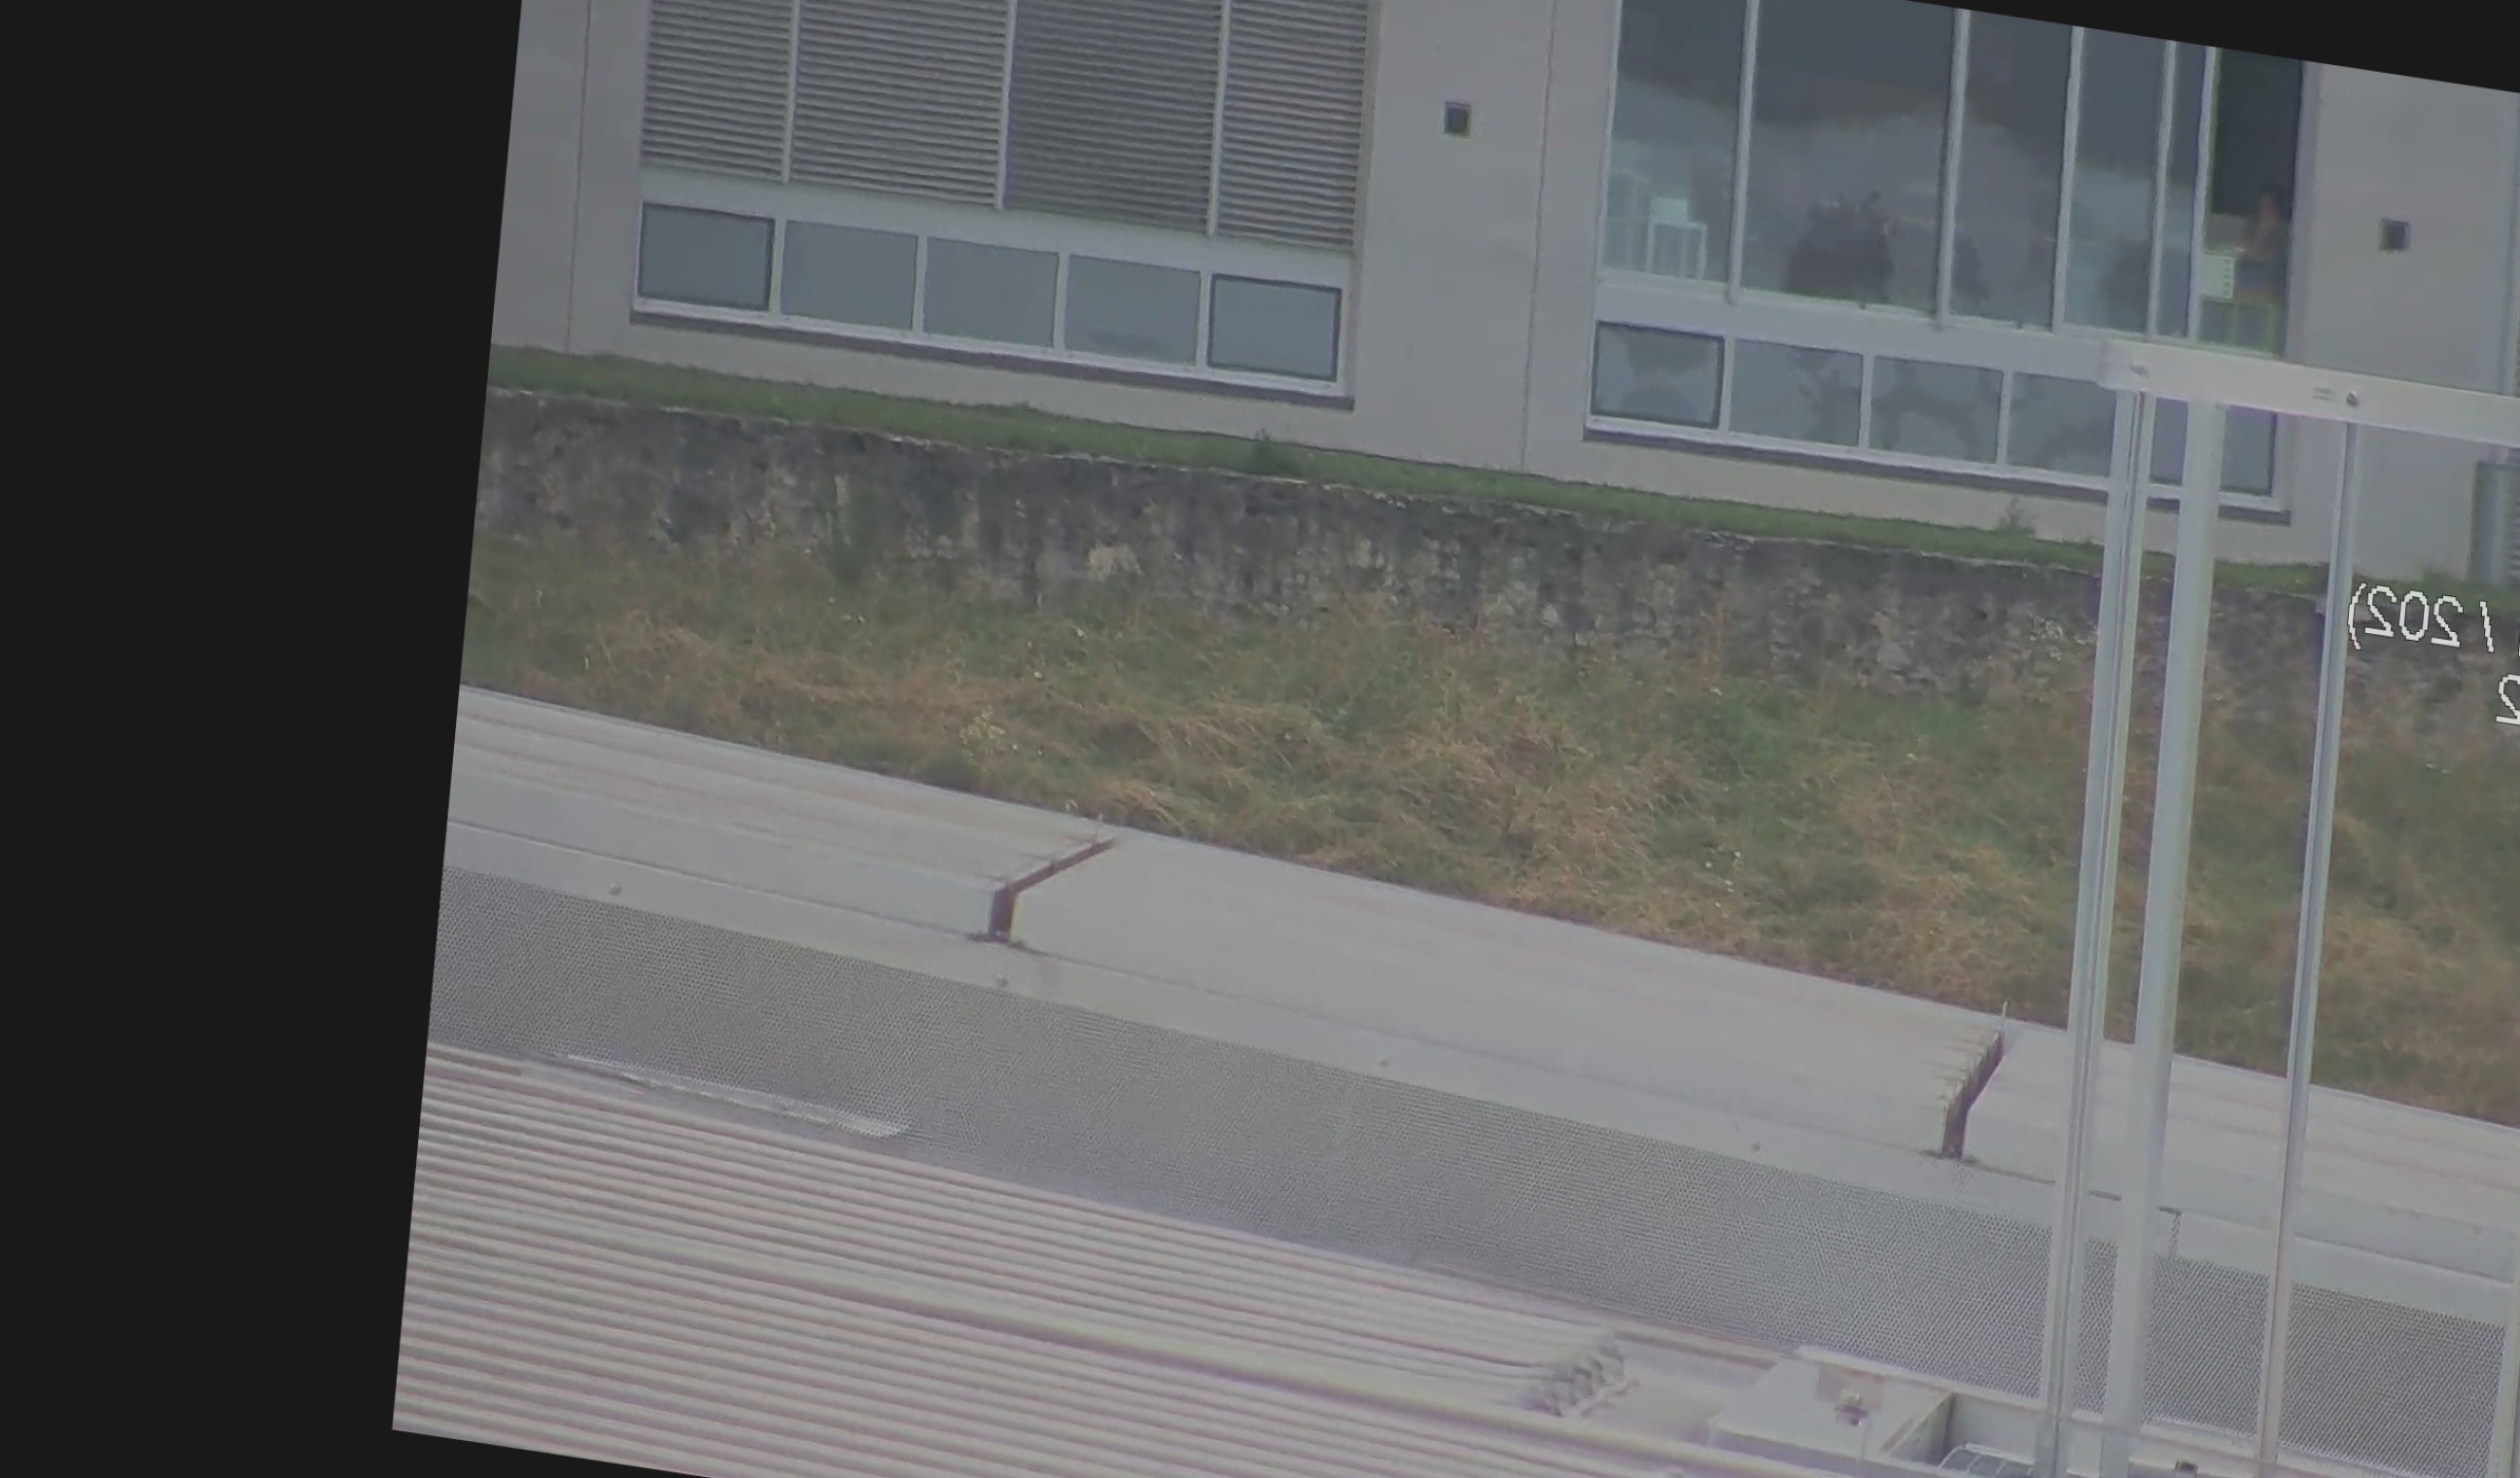Other: (1919, 987, 2036, 1179)
